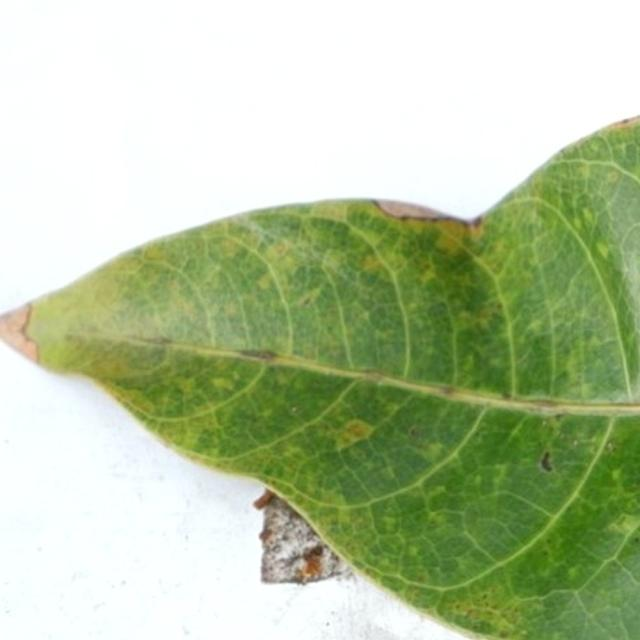Mango: (22, 123, 639, 639)
Powdery_Mildew: (452, 601, 523, 635), (333, 415, 378, 452), (291, 543, 332, 582), (434, 226, 471, 255), (296, 283, 325, 308), (143, 242, 173, 264), (322, 249, 348, 271), (267, 239, 294, 259), (218, 238, 242, 257), (360, 254, 383, 273), (176, 378, 199, 396), (210, 376, 236, 391), (612, 517, 635, 533), (420, 266, 439, 285), (539, 451, 554, 473), (255, 273, 274, 290), (428, 486, 448, 501), (596, 242, 611, 259), (223, 301, 240, 316), (571, 217, 585, 232), (611, 468, 624, 483), (605, 169, 620, 182)
